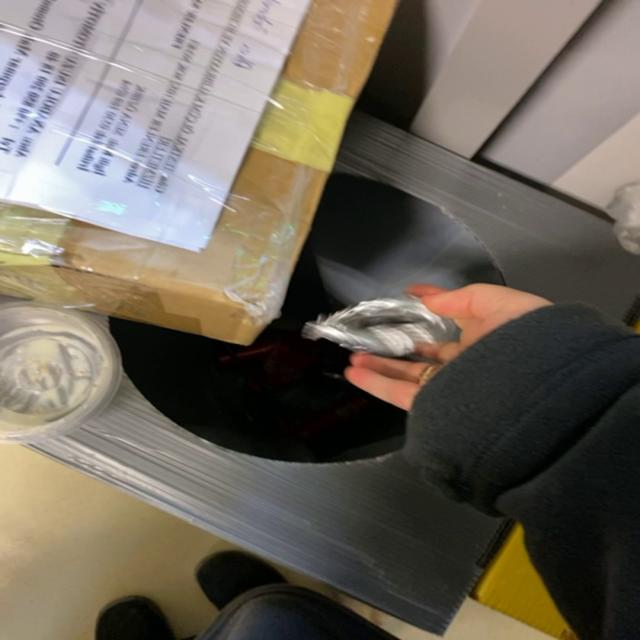bin: (30, 111, 640, 634)
metal: (303, 296, 461, 358)
